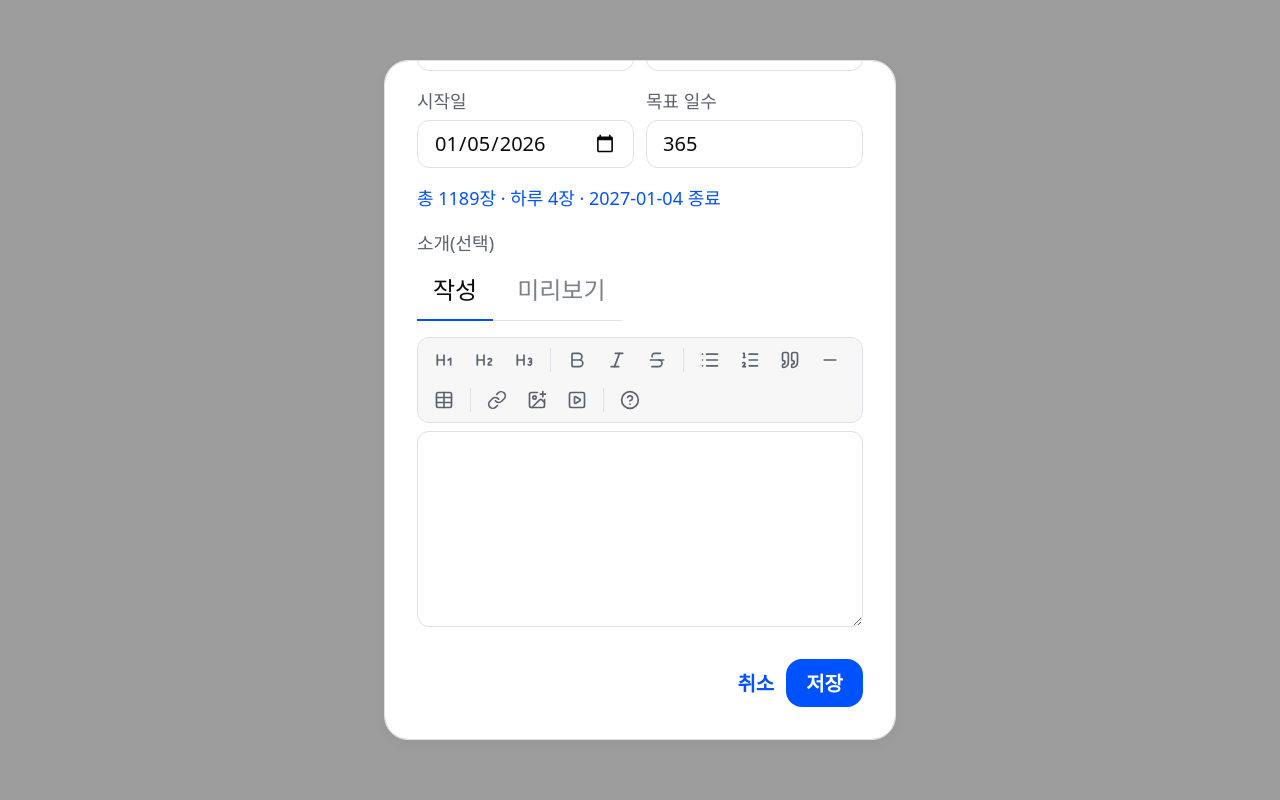
Test: ChallengeFormDialog › 400 INVALID_INPUT_VALUE detail은 폼 상단 배너로
The width and height of the screenshot is (1280, 800).
(page scrolled)
Click the button "저장".
click(825, 683)  # box [786,659,863,707]
(page scrolled)
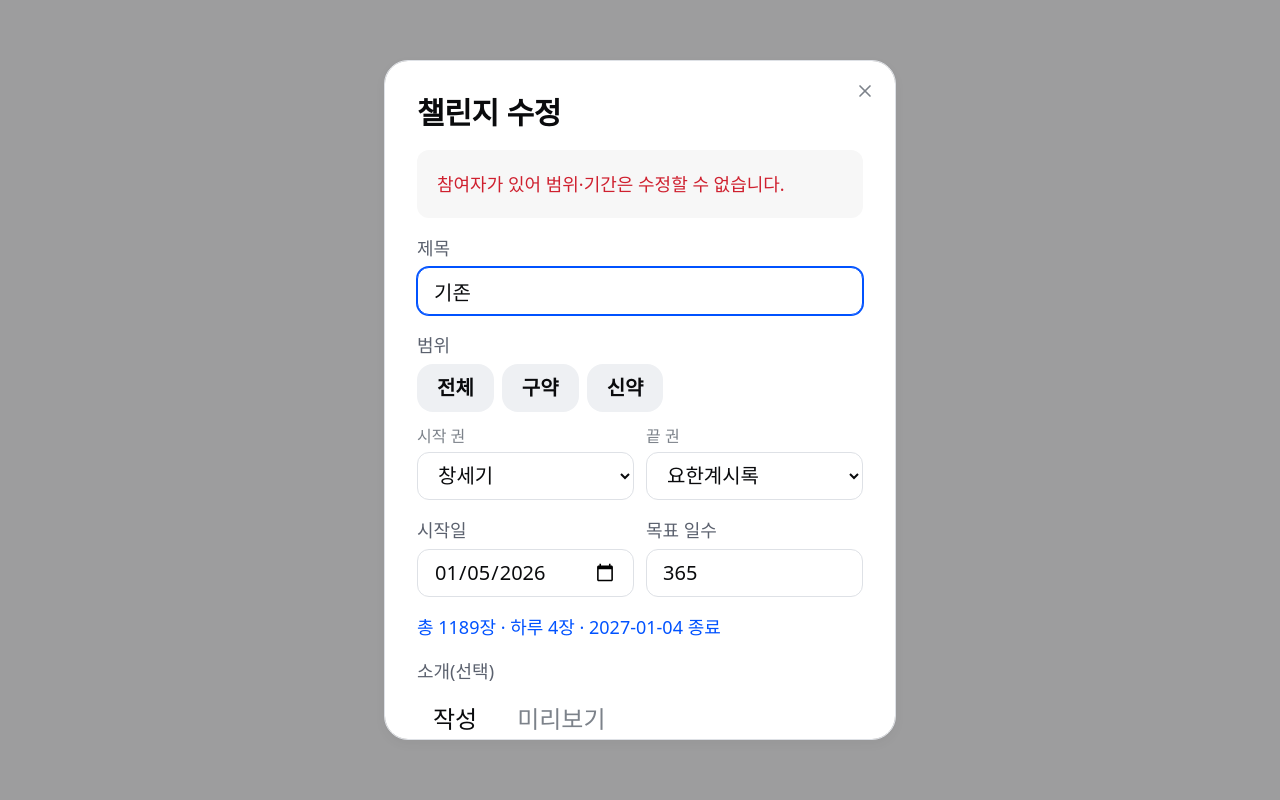
Now the text "참여자가 있어 범위·기간은 수정할 수 없습니다." is shown, box [417,150,863,218]
